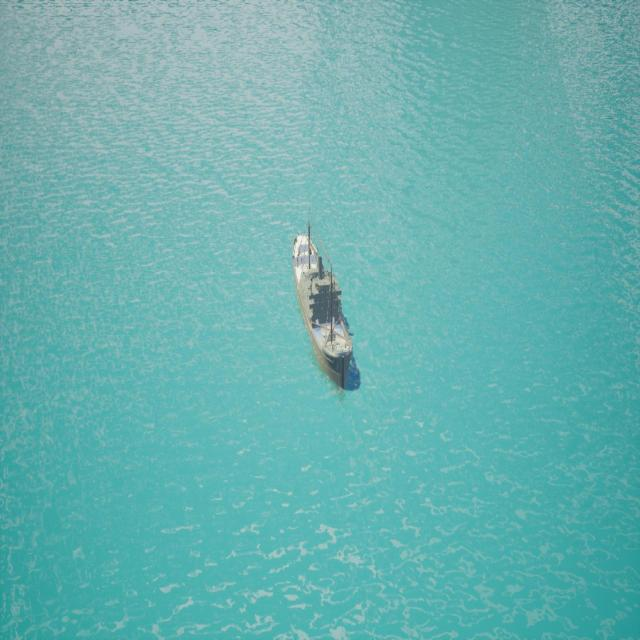fishing ship: (290, 232, 355, 395)
